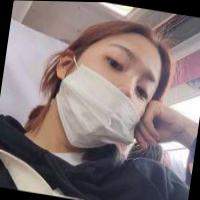WRONG: (51, 38, 163, 152)
